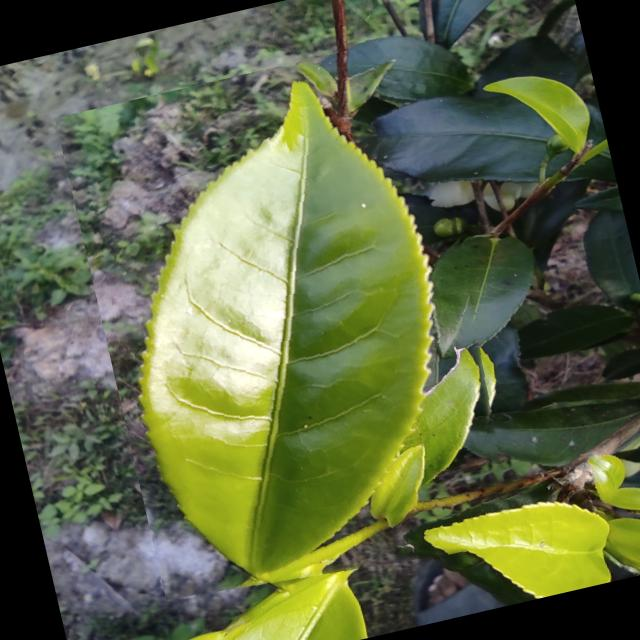Category B(2-4 days): (54, 33, 536, 622)
